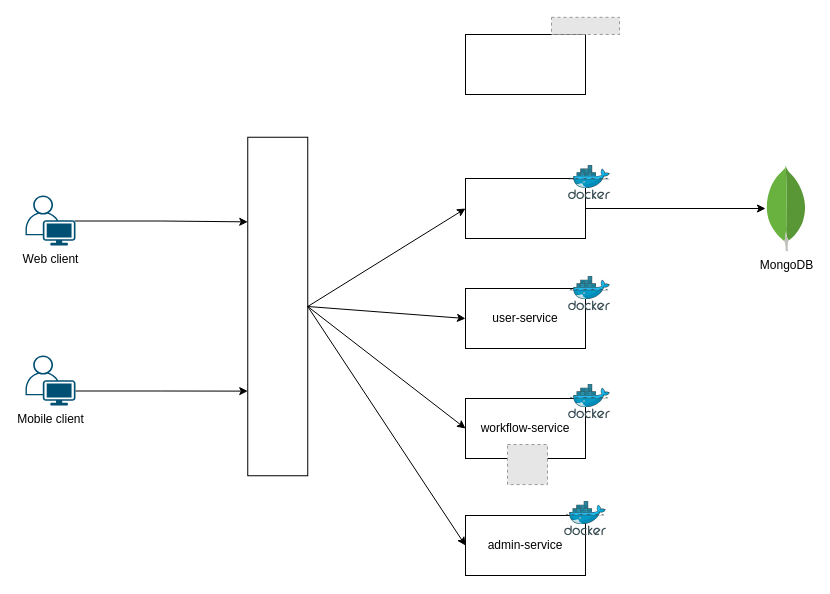
Image size: 830x594. Some labels were removed from this diagram. Grey dashed boxes stand in for pictures. The centre of each missing label's shape, as x and y in pixels:
"API GATEWAY" belongs at (x=277, y=306).
"common-service" belongs at (x=525, y=64).
"story-service" belongs at (x=525, y=208).
